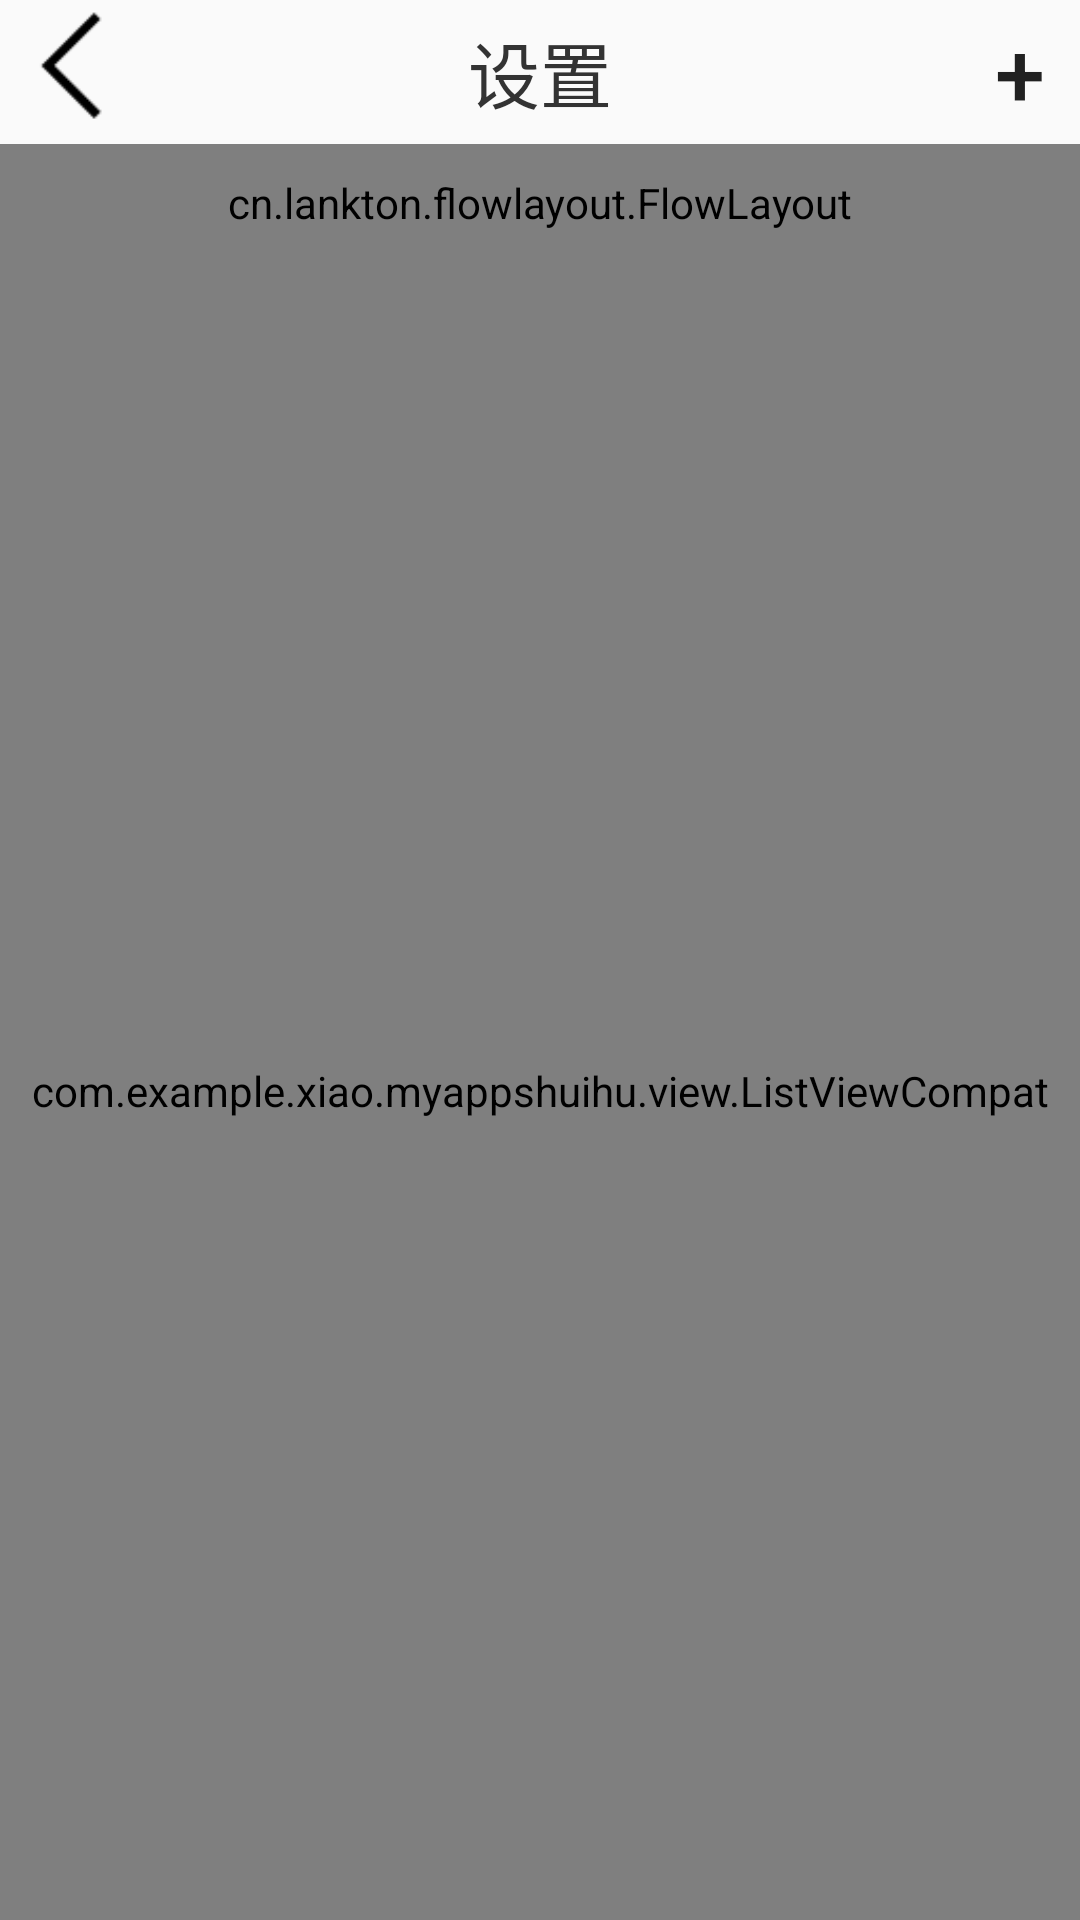

Locate icon controls on the screen. Image size 1080x1920, boxes as (x1, y1, x2, y2).
back: (41, 12, 102, 119)
